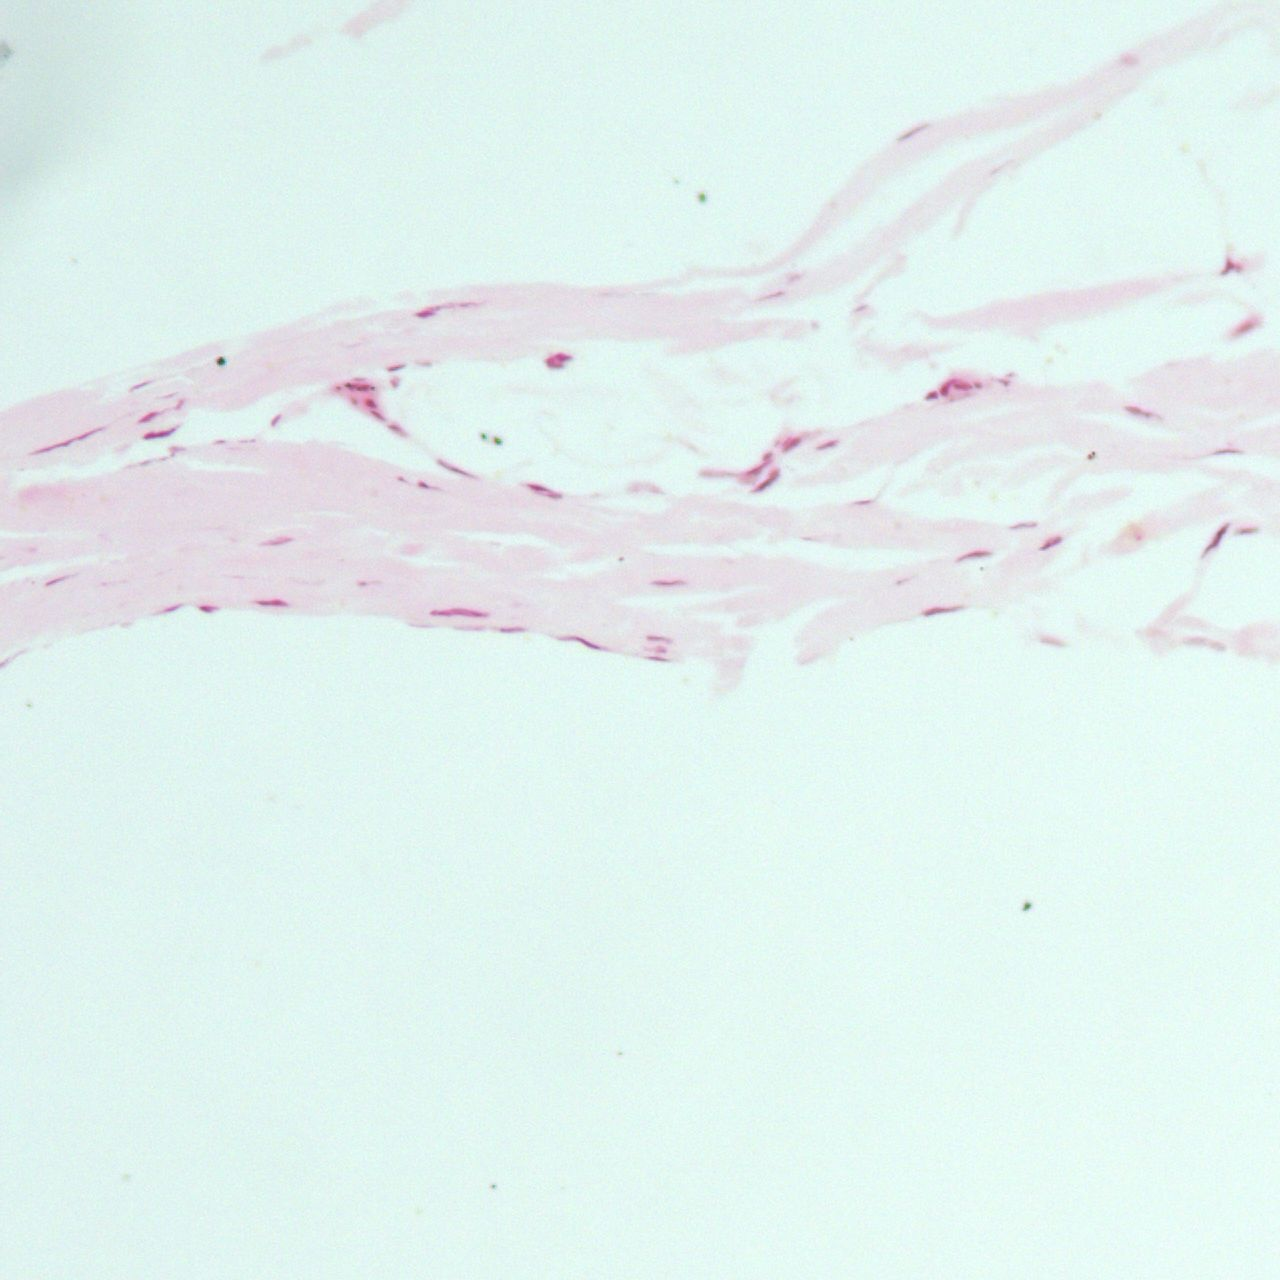dust: (215, 356, 226, 366), (493, 436, 502, 444), (1023, 903, 1030, 911), (697, 193, 704, 202), (481, 433, 486, 440), (1085, 454, 1092, 459), (370, 386, 376, 392), (345, 383, 352, 388), (618, 556, 624, 560), (673, 179, 679, 184), (1092, 450, 1095, 456)
nucleus-AC: (27, 422, 107, 458), (411, 295, 482, 320), (1196, 520, 1232, 561), (741, 448, 775, 488), (747, 467, 783, 502), (433, 455, 476, 481), (1225, 315, 1262, 341), (897, 116, 932, 143), (524, 479, 563, 503), (1122, 399, 1156, 424), (1035, 531, 1065, 554), (40, 571, 77, 588), (560, 635, 602, 651), (1186, 635, 1226, 651), (430, 606, 486, 617), (813, 435, 840, 454), (919, 606, 962, 617), (127, 377, 154, 394), (134, 408, 158, 425), (257, 536, 293, 547), (954, 549, 990, 560), (156, 601, 182, 617), (143, 429, 179, 440), (366, 406, 386, 424), (757, 290, 785, 302), (1217, 259, 1240, 274), (256, 598, 290, 607), (779, 437, 802, 451), (940, 376, 958, 394), (651, 577, 682, 586), (1039, 636, 1067, 647), (495, 625, 524, 634), (268, 410, 284, 428), (1009, 520, 1037, 530), (156, 390, 178, 402), (544, 356, 564, 369), (389, 421, 406, 435), (644, 635, 672, 644), (1213, 447, 1244, 454), (196, 605, 222, 613), (956, 380, 972, 392), (387, 362, 406, 372), (168, 445, 184, 456), (554, 352, 572, 361), (1235, 527, 1259, 535), (417, 479, 433, 490), (788, 273, 803, 284), (855, 302, 869, 313), (651, 647, 668, 655), (646, 658, 670, 663), (352, 374, 368, 382), (855, 499, 873, 505), (389, 376, 400, 386), (924, 392, 938, 399), (396, 475, 406, 484), (365, 399, 375, 407), (215, 438, 225, 444)
